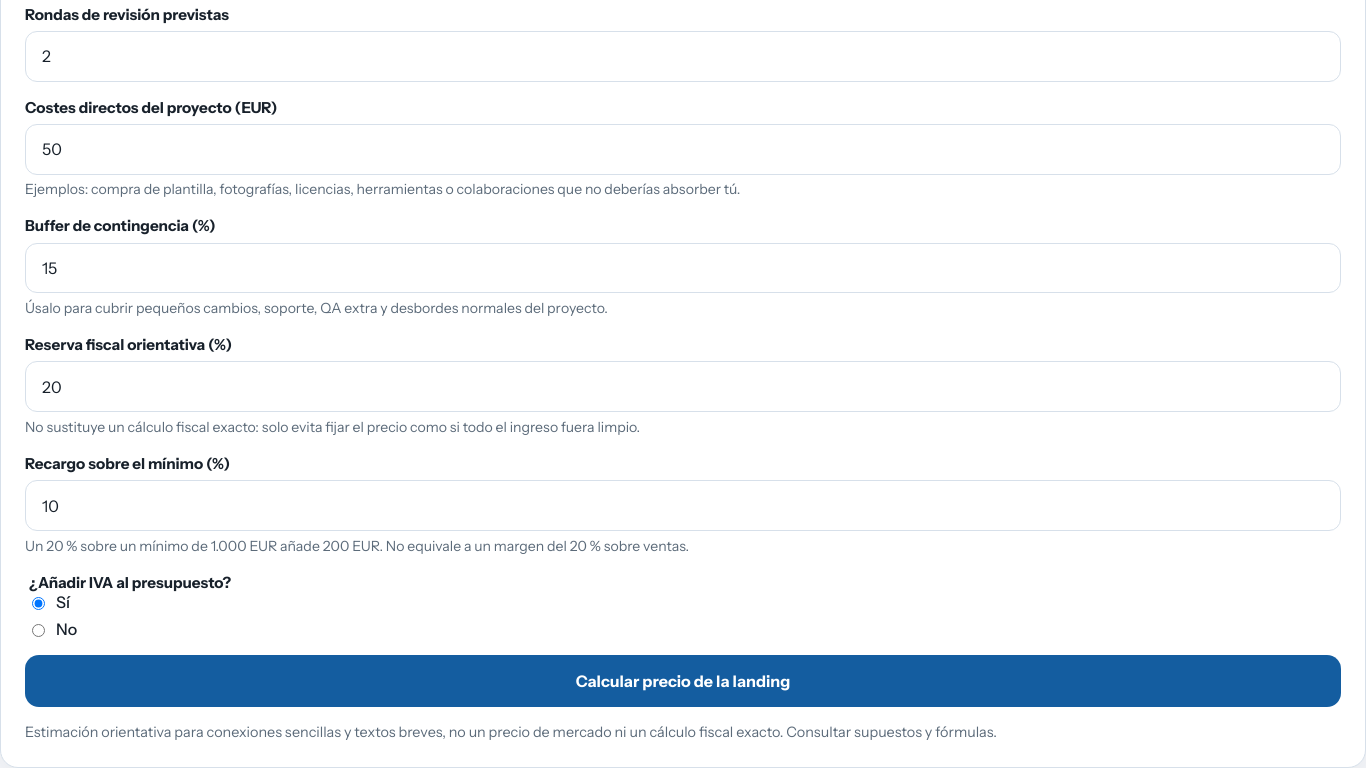
Test case: CalculatorForm › rejects a tax reserve above the supported limit
The width and height of the screenshot is (1366, 768).
(page scrolled)
Replace the text in the number field labelled "Reserva fiscal orientativa" with "100" at (683,387), box [25,362,1341,412]
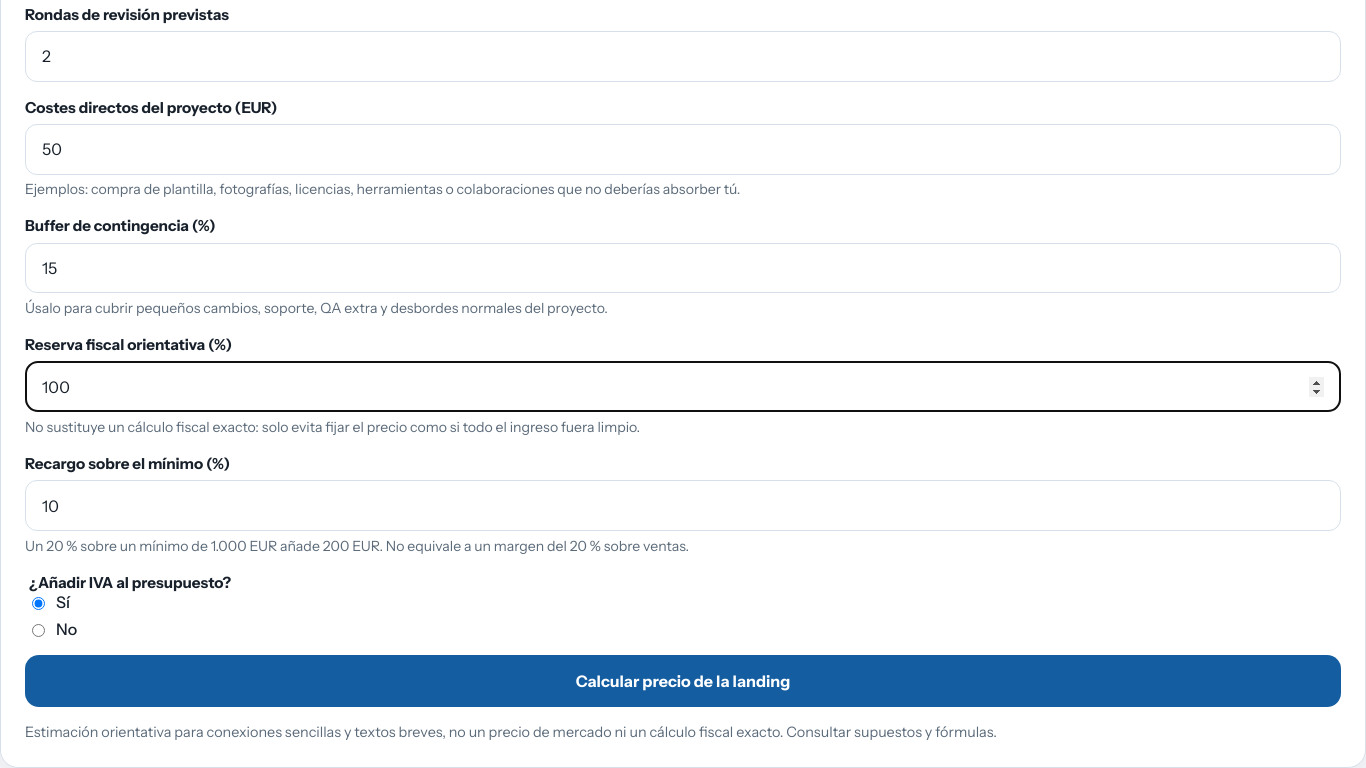
Click the button "Calcular precio de la landing" at (683,681), box [25,655,1341,707]
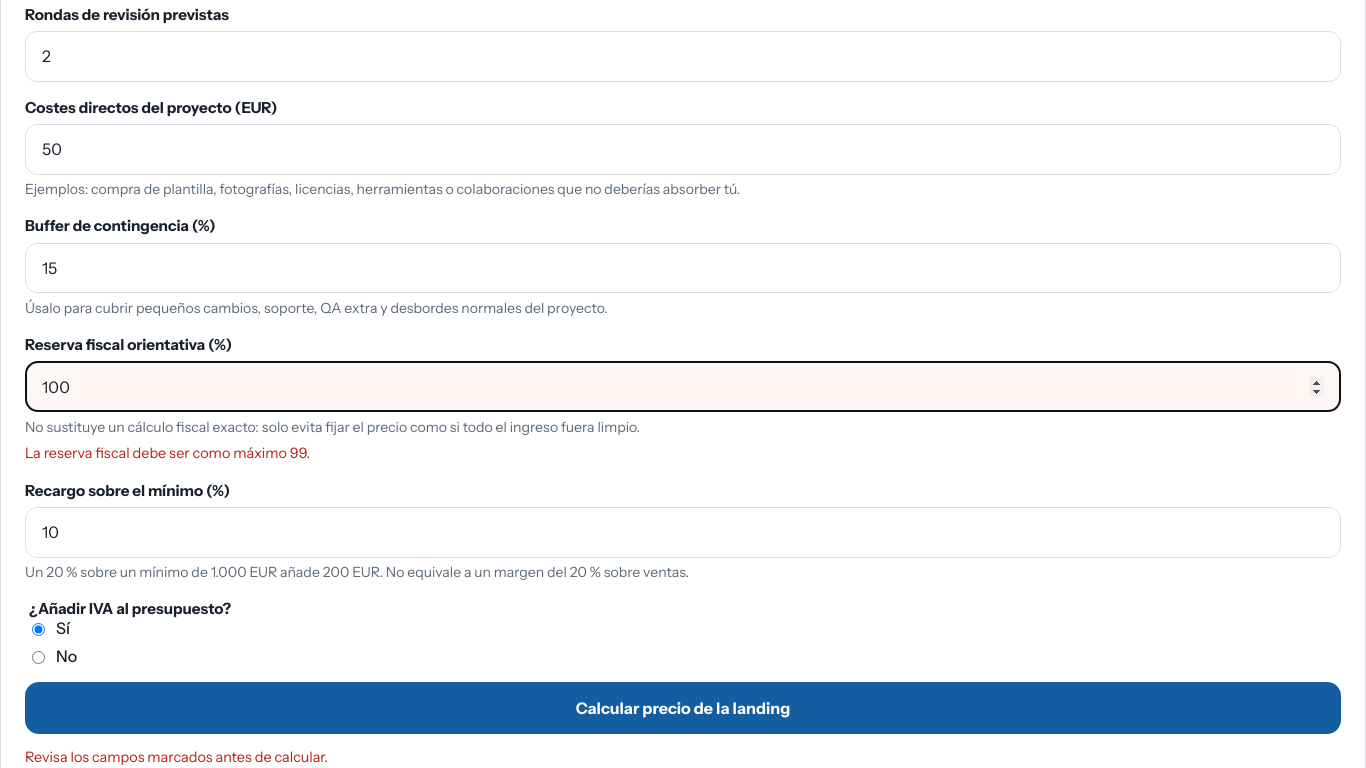
Expected: the text "La reserva fiscal debe ser como máximo 99." is shown, [25,444,310,462]
